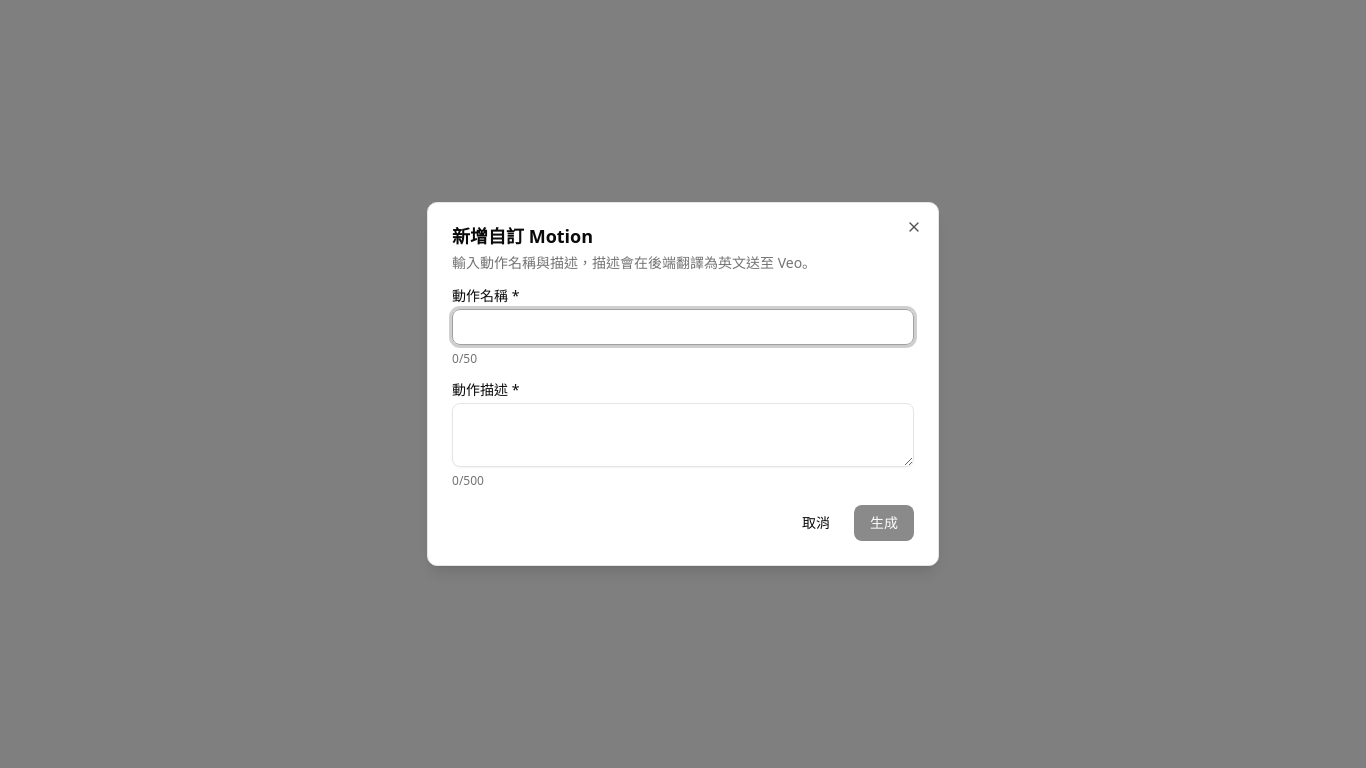
CustomMotionModal › keeps the modal open and surfaces an inline error on CONFLICT_DUPLICATE_NAME
The width and height of the screenshot is (1366, 768).
Type "轉身揮手" into the field with test id "custom-motion-name-input".
click(683, 327); type("轉身揮手")  # box 452,309 -> 914,345
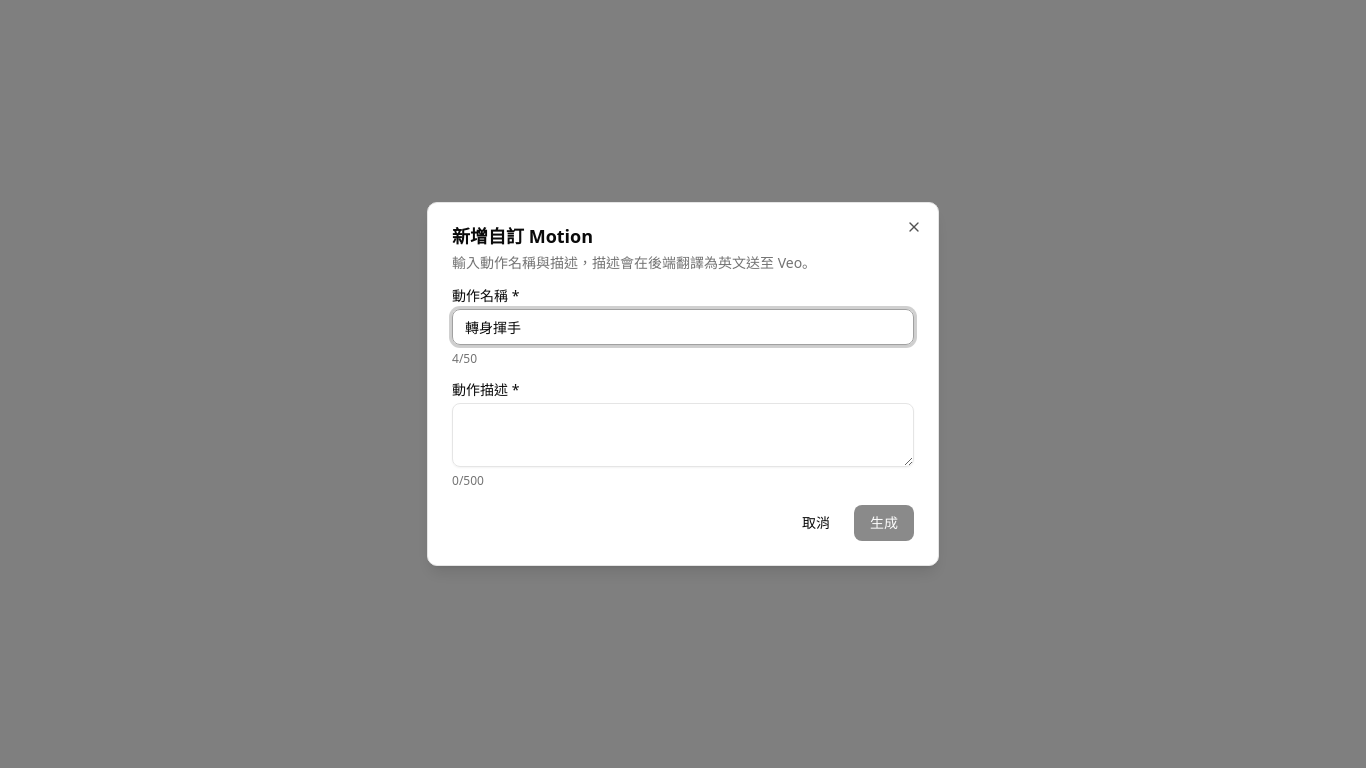
Type "慢慢轉身" into the text box with test id "custom-motion-description-input".
click(683, 435); type("慢慢轉身")  # box 452,403 -> 914,467
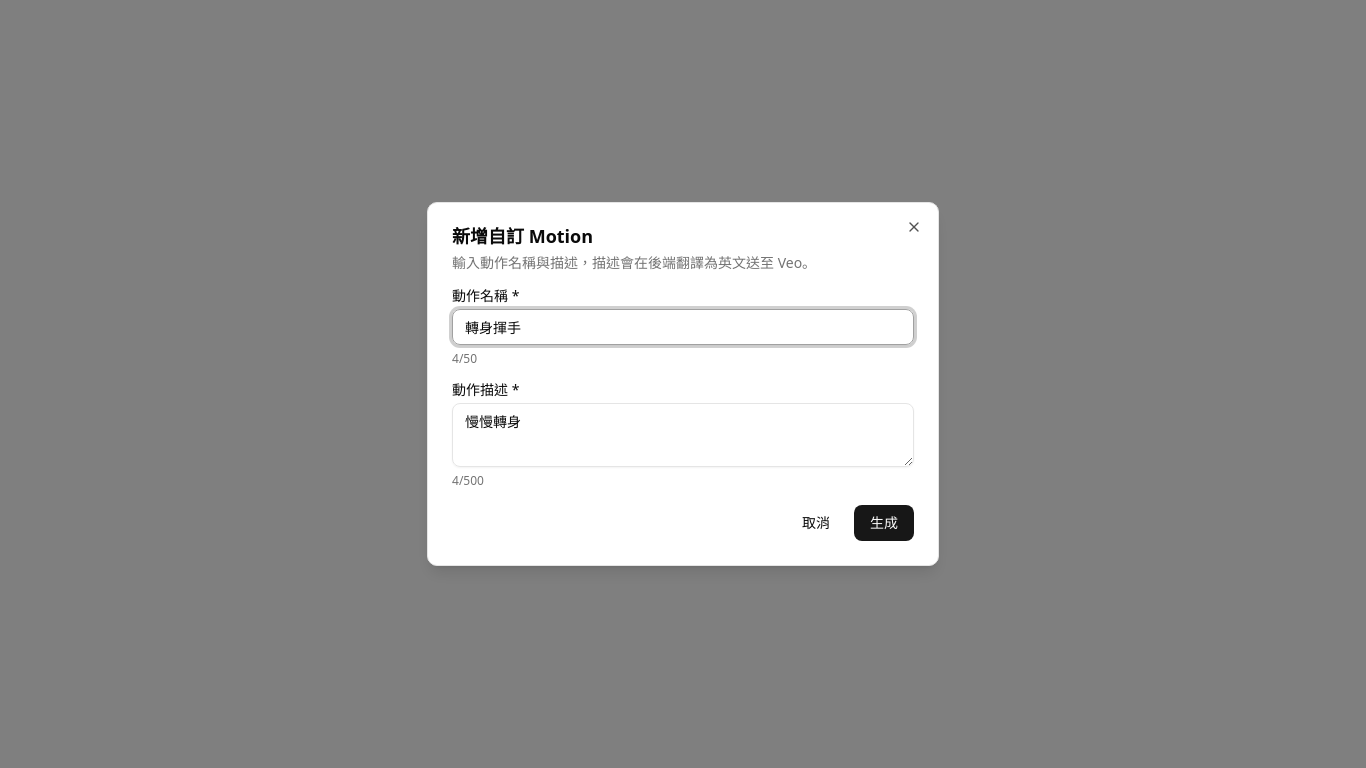
Click the button with test id "custom-motion-submit".
click(884, 523)  # box 854,505 -> 914,541
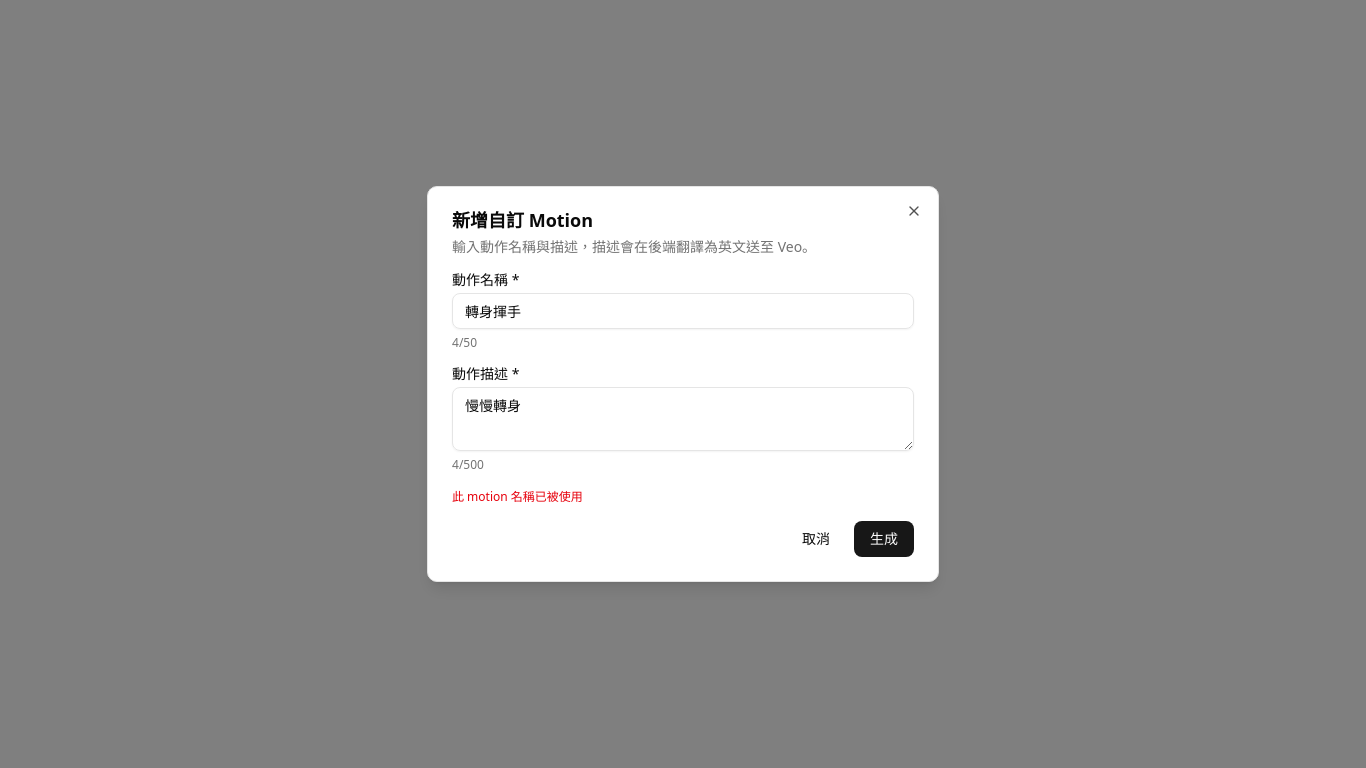
Expected: the heading "新增自訂 Motion" is shown, 452,208 -> 593,232
Result: the message with test id "custom-motion-error" reads "此 motion 名稱已被使用" at 452,488 -> 583,505
